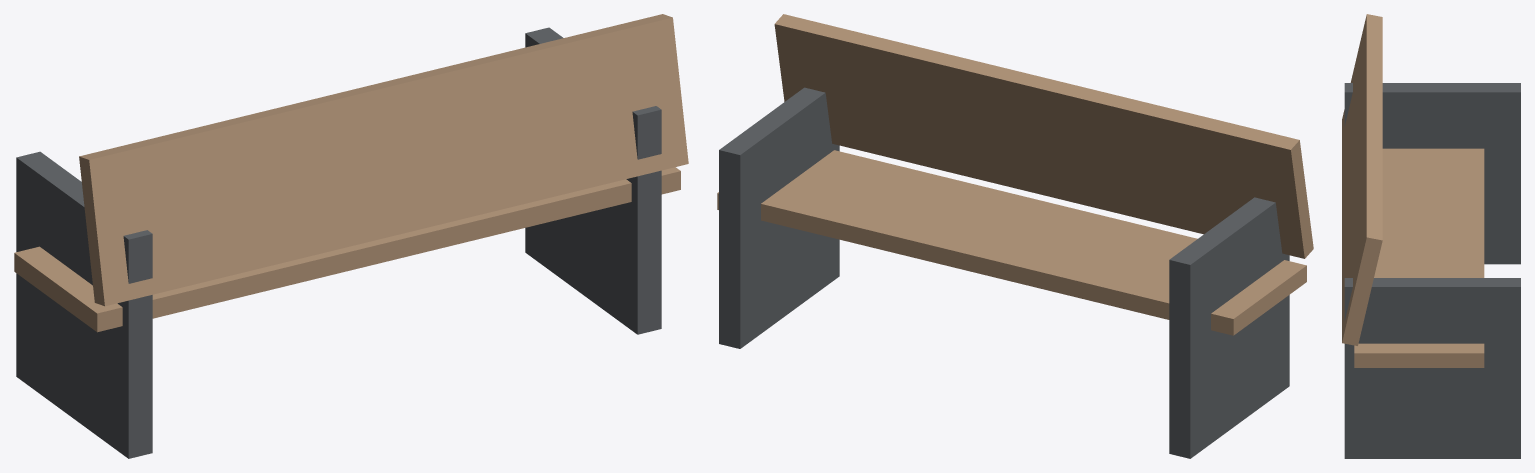
Rendered from Prop_StreetBench.fbx.
3 views of the same model, side by side, from view 1: azimuth 30°, elevation 25°; view 2: azimuth 150°, elevation 25°; view 3: azimuth 270°, elevation 25° (orthographic). The views are drawn at different scales.
Visible parts, largest first — view 1: Prop_StreetBench; view 2: Prop_StreetBench; view 3: Prop_StreetBench.
Part boxes in pixels (x1,y1,x2,y2): Prop_StreetBench: [14, 14, 688, 458]; Prop_StreetBench: [717, 14, 1313, 458]; Prop_StreetBench: [1342, 14, 1520, 458].
Bounding box in the file's own units: 1.95 × 0.9414 × 0.6601.
